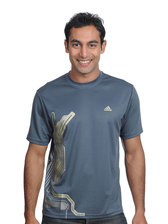clothoes: (26, 68, 153, 218)
